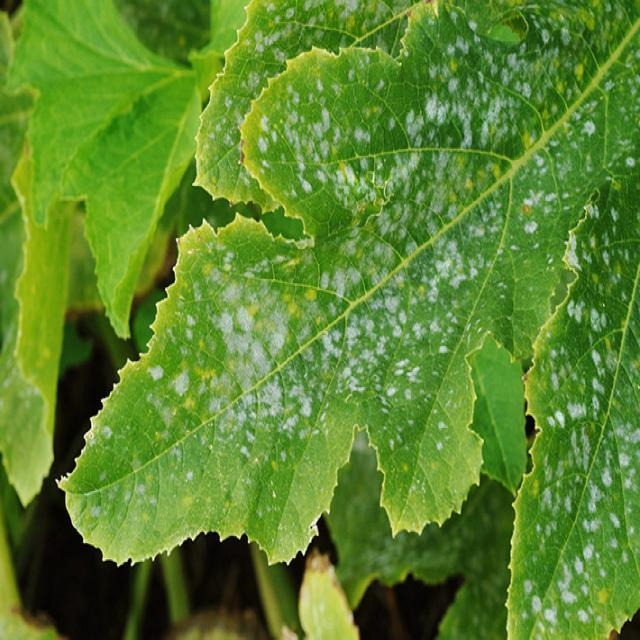Leaf_Mold: (102, 27, 618, 617)
